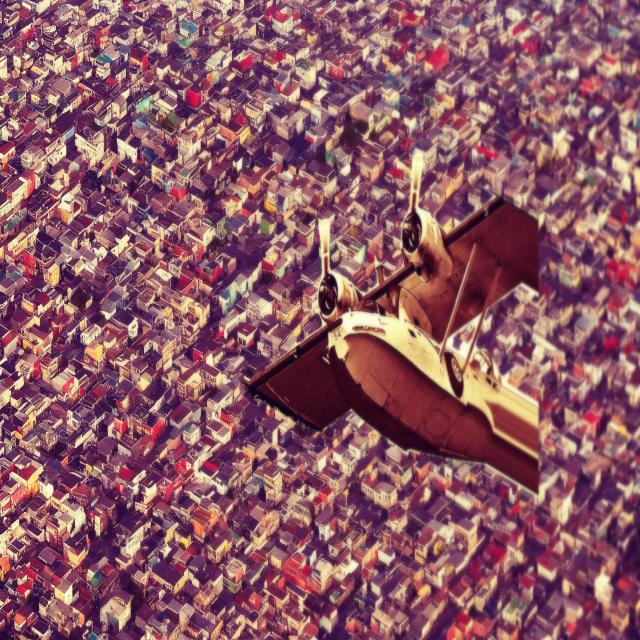airplane: (243, 150, 542, 496)
